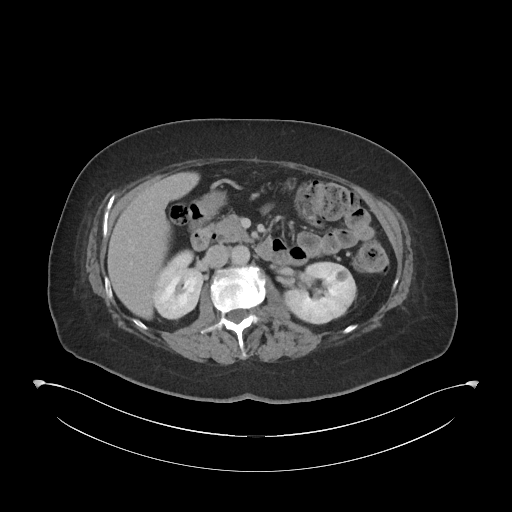Lesion: (332, 268, 349, 284)
